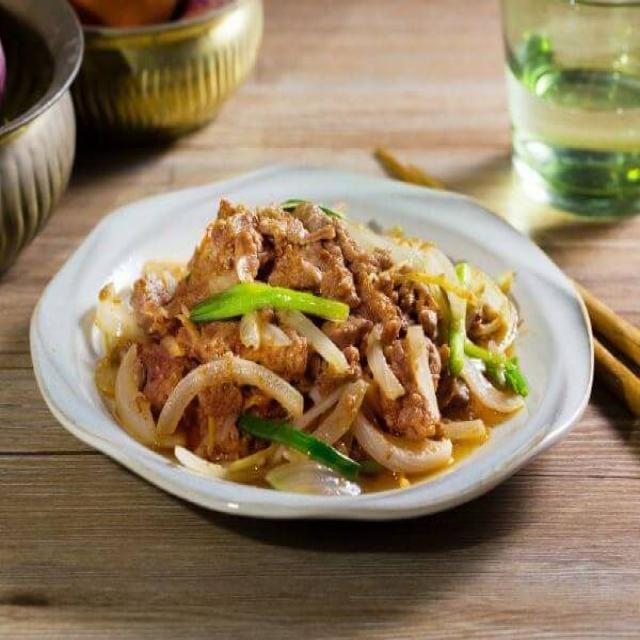bo xao: (92, 199, 528, 494)
